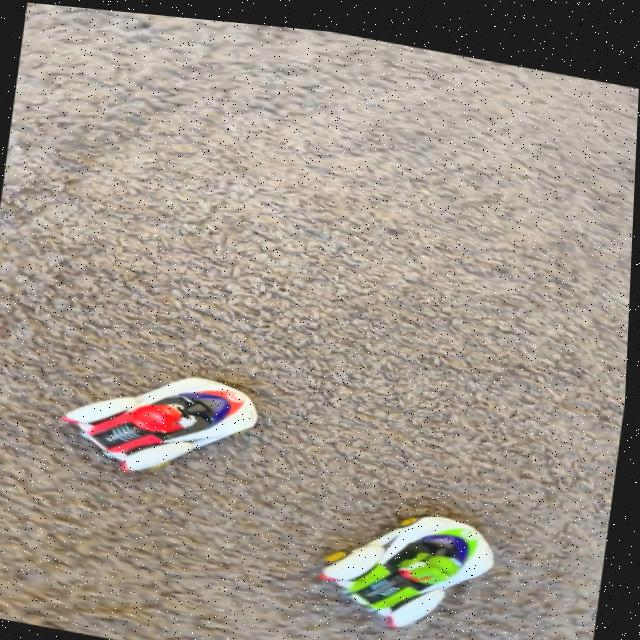mario: (44, 340, 283, 503)
yoshi: (303, 470, 521, 640)
